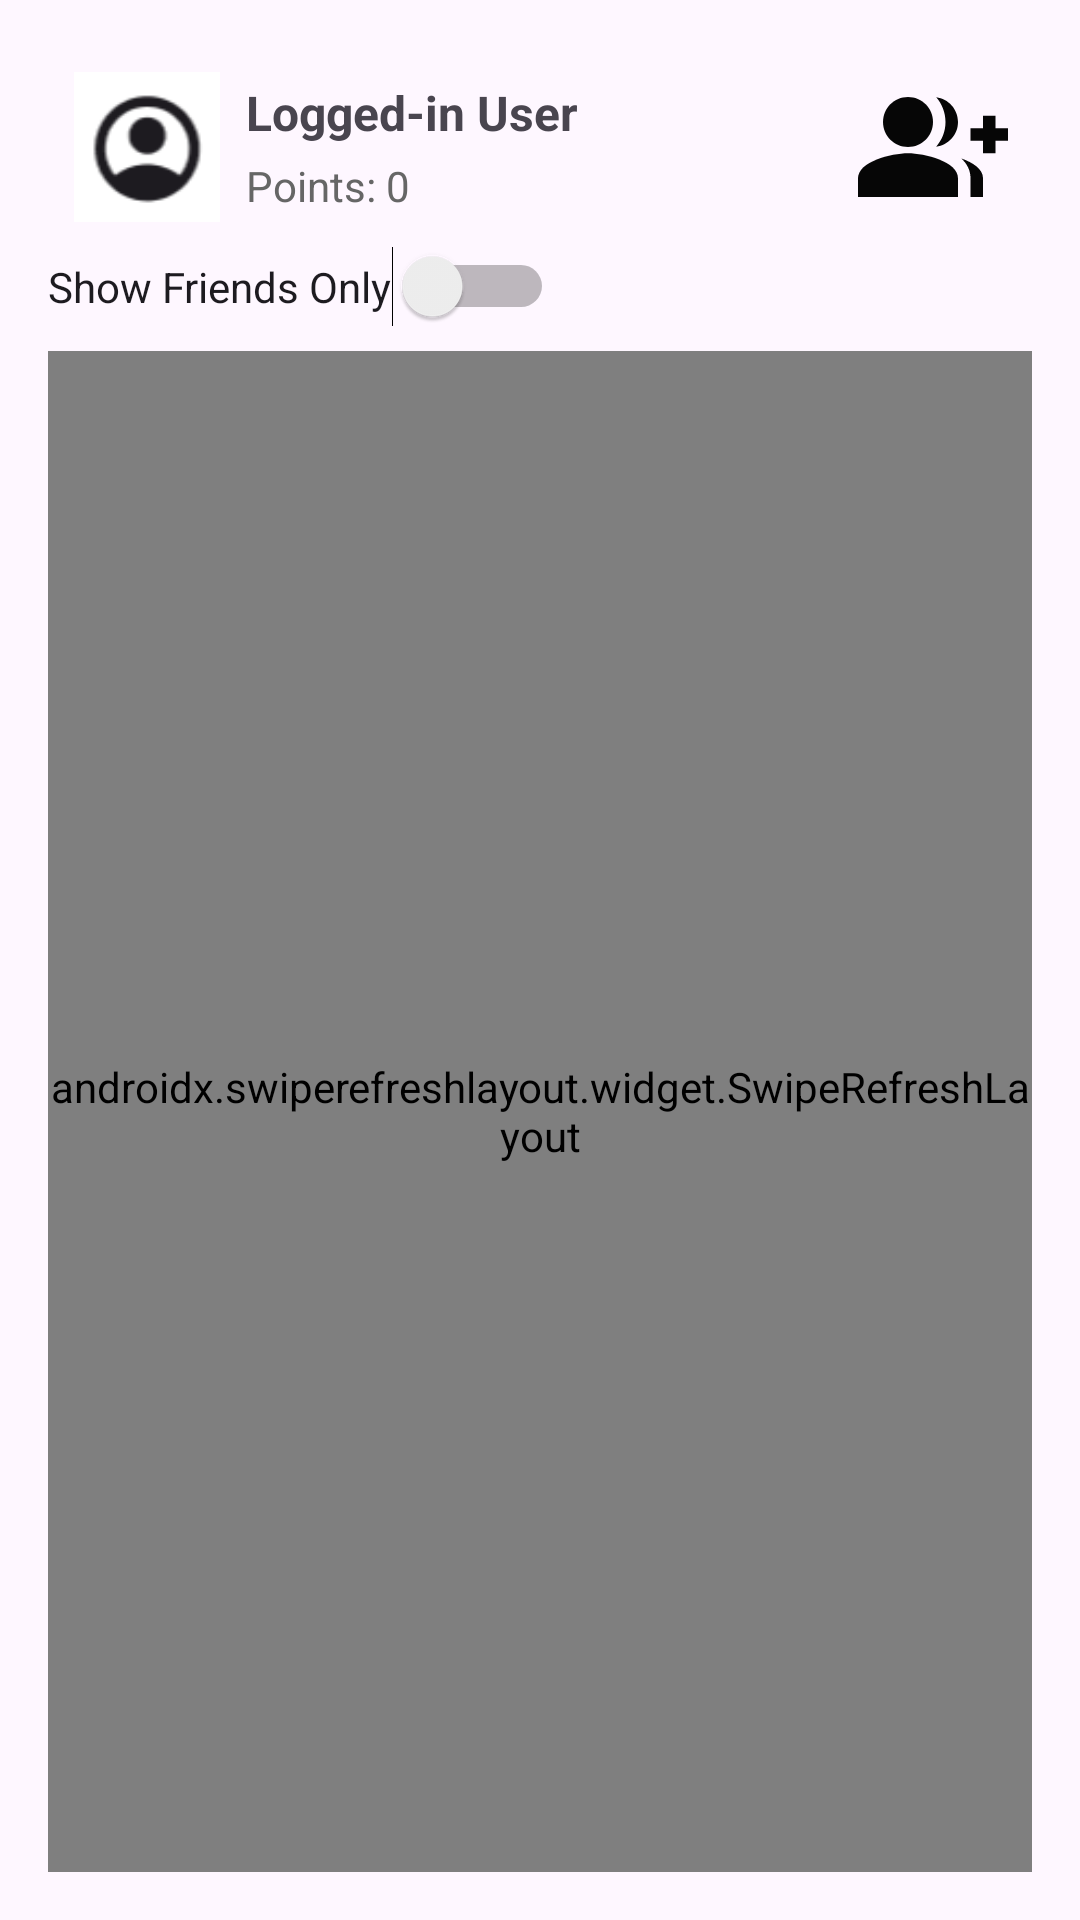

Screen size 1080px×1920px. Icon name, then its center in pixels as [x,y]:
Add Friend: [933,147]
